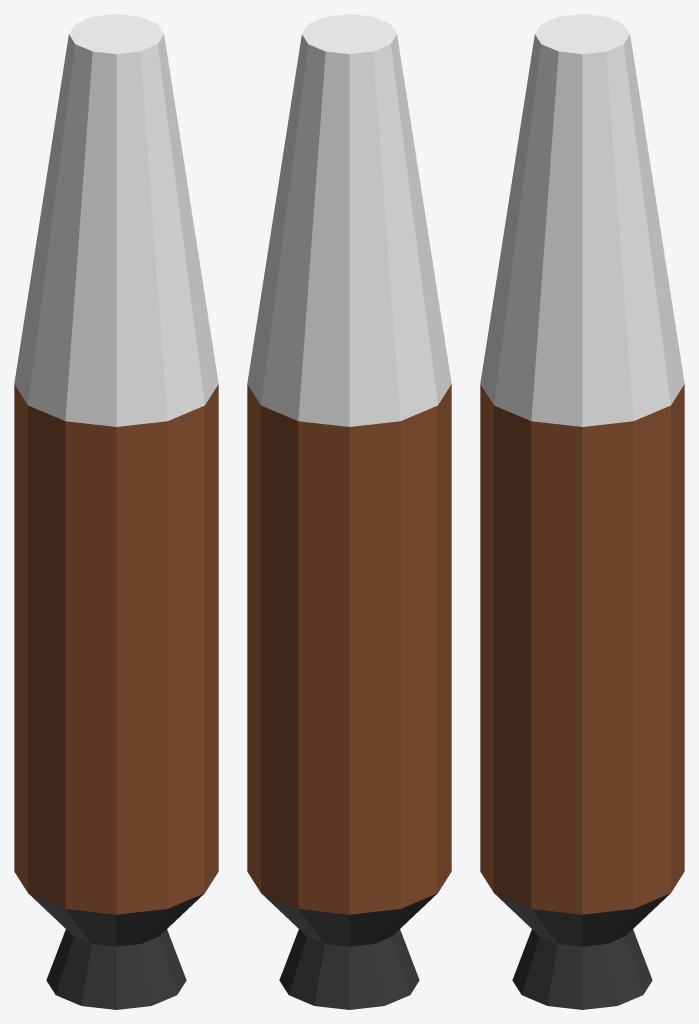
Rendered from Booster04.gltf.
3 renders of one model, left to right at view 1: azimuth 30°, elevation 25°; view 2: azimuth 150°, elevation 25°; view 3: azimuth 270°, elevation 25°, orthographic.
Visible parts, largest first — view 1: Booster04; view 2: Booster04; view 3: Booster04.
Boxes of the visible parts, x1=… form: Booster04: x1=14, y1=14, x2=218, y2=1009; Booster04: x1=247, y1=14, x2=451, y2=1009; Booster04: x1=480, y1=14, x2=684, y2=1009.
Bounding box in the file's own units: 0.1703 × 0.87 × 0.1703.
